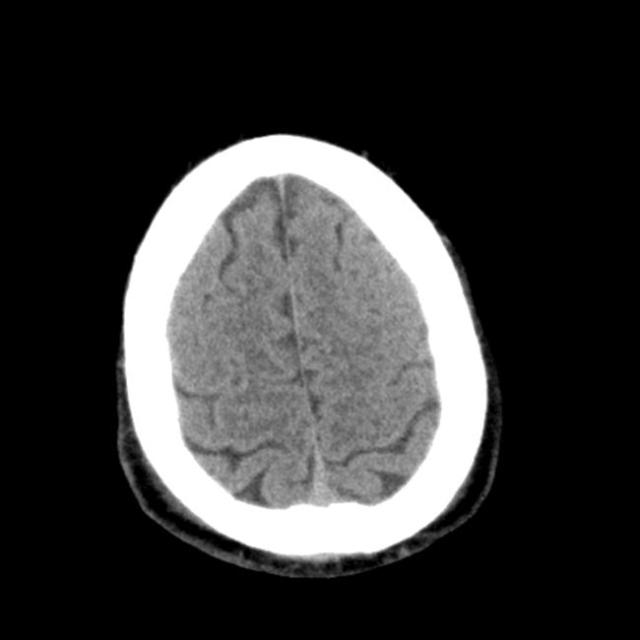lesion: (111, 128, 506, 580)
